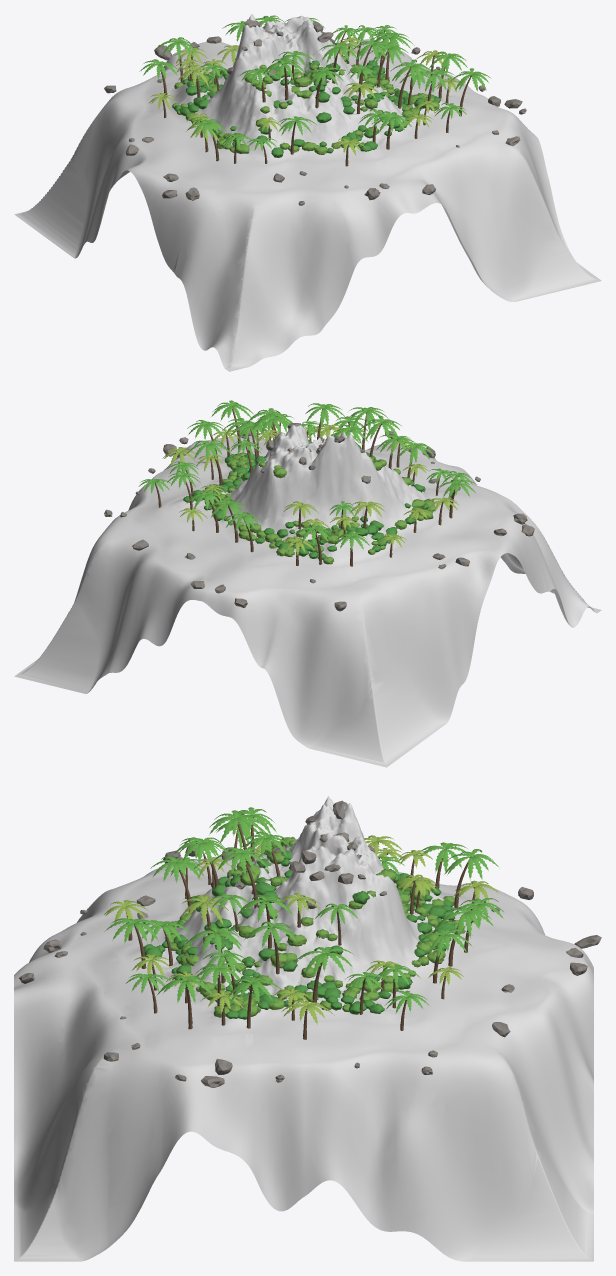
Rendered from Island.fbx.
3 renders of one model, top to bottom at view 1: azimuth 30°, elevation 25°; view 2: azimuth 150°, elevation 25°; view 3: azimuth 270°, elevation 25°, orthographic. The views are drawn at different scales.
Visible parts, largest first — view 1: Terrain, Palm.033; view 2: Terrain, Palm.003, Palm.103; view 3: Terrain, Palm.003, Palm.102, Palm.103, Palm.029, Palm.014, Palm.006, Palm.113, Palm.011, Palm.004, Palm.018, Palm.021 (+6 smaller).
Boxes of the visible parts, box(x1,y1,x2,y2) form: Terrain: box(14, 14, 601, 371); Palm.033: box(390, 59, 433, 108); Terrain: box(14, 425, 601, 767); Palm.003: box(187, 440, 231, 485); Palm.103: box(360, 416, 401, 456); Terrain: box(14, 796, 593, 1261); Palm.003: box(294, 947, 353, 1004); Palm.102: box(212, 847, 269, 908); Palm.103: box(209, 810, 267, 865); Palm.029: box(435, 905, 494, 966); Palm.014: box(444, 849, 498, 908); Palm.006: box(104, 918, 164, 968); Palm.113: box(174, 837, 230, 886); Palm.011: box(157, 975, 213, 1029); Palm.004: box(228, 976, 282, 1028); Palm.018: box(417, 928, 472, 983); Palm.021: box(150, 856, 202, 912).
Size of the model in its own units: 60.01 by 35.45 by 60.83.
